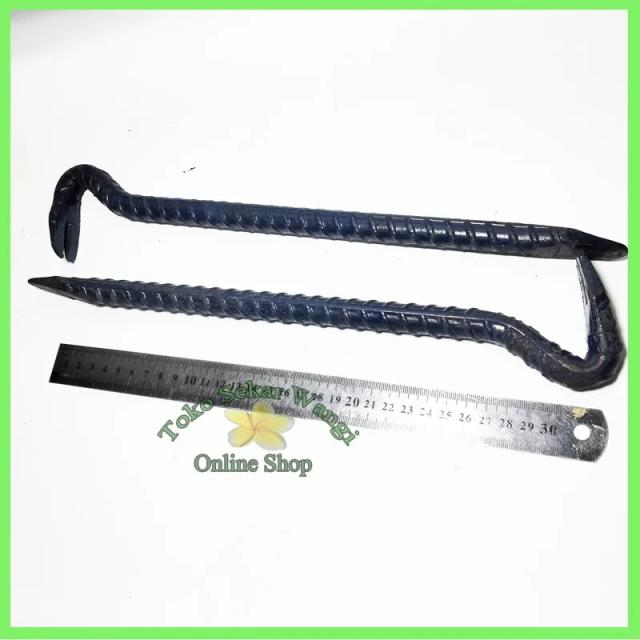Linggis: (50, 166, 629, 265)
